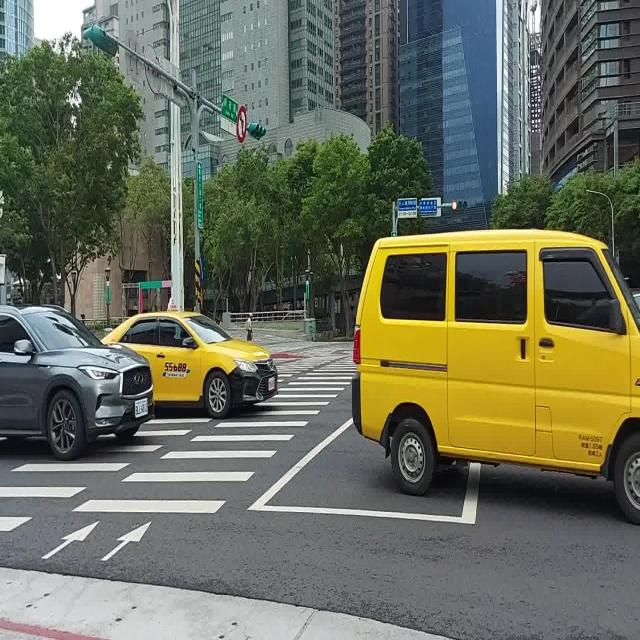car: (354, 231, 634, 492), (0, 304, 154, 460), (111, 311, 279, 418)
crosswalk: (72, 354, 357, 513), (0, 416, 214, 534), (277, 355, 335, 384)
